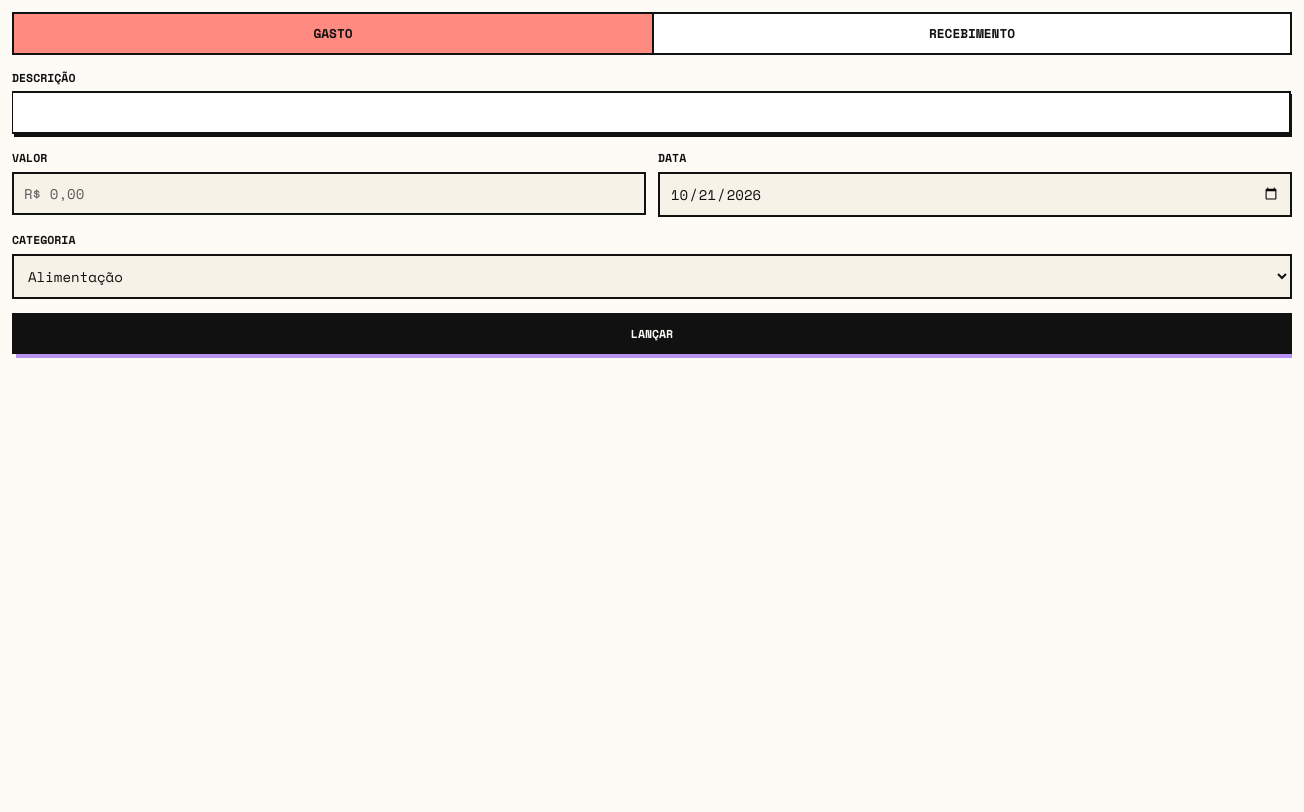
Scenario: TransactionForm › não envia com valor zerado
Type "X" into the field labelled "Descrição". click: coordinates (651, 112)
box: [11,91,1291,134]
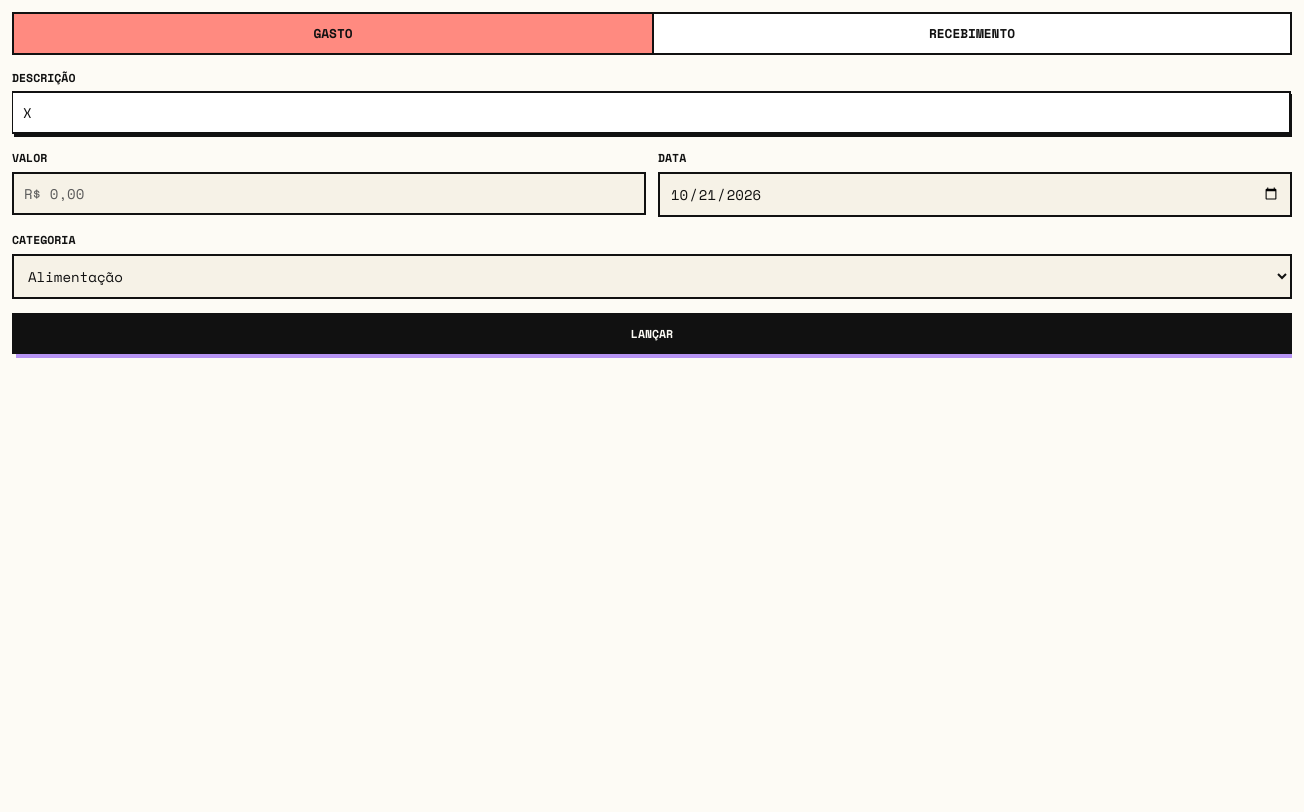
Click the button "Lançar". click: coordinates (652, 334)
box: [12,313,1292,354]
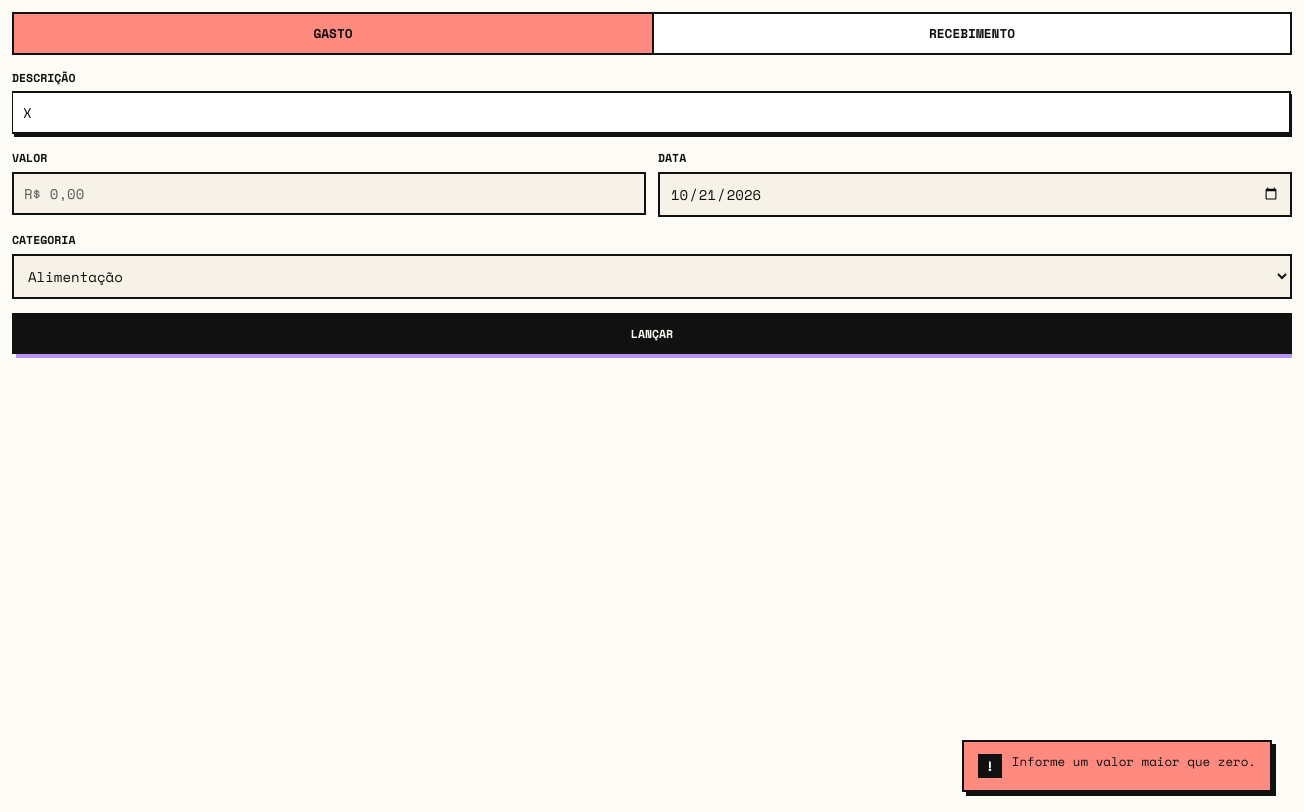
Expected: the text "Informe um valor maior que zero." is shown, [1012,754,1256,771]
